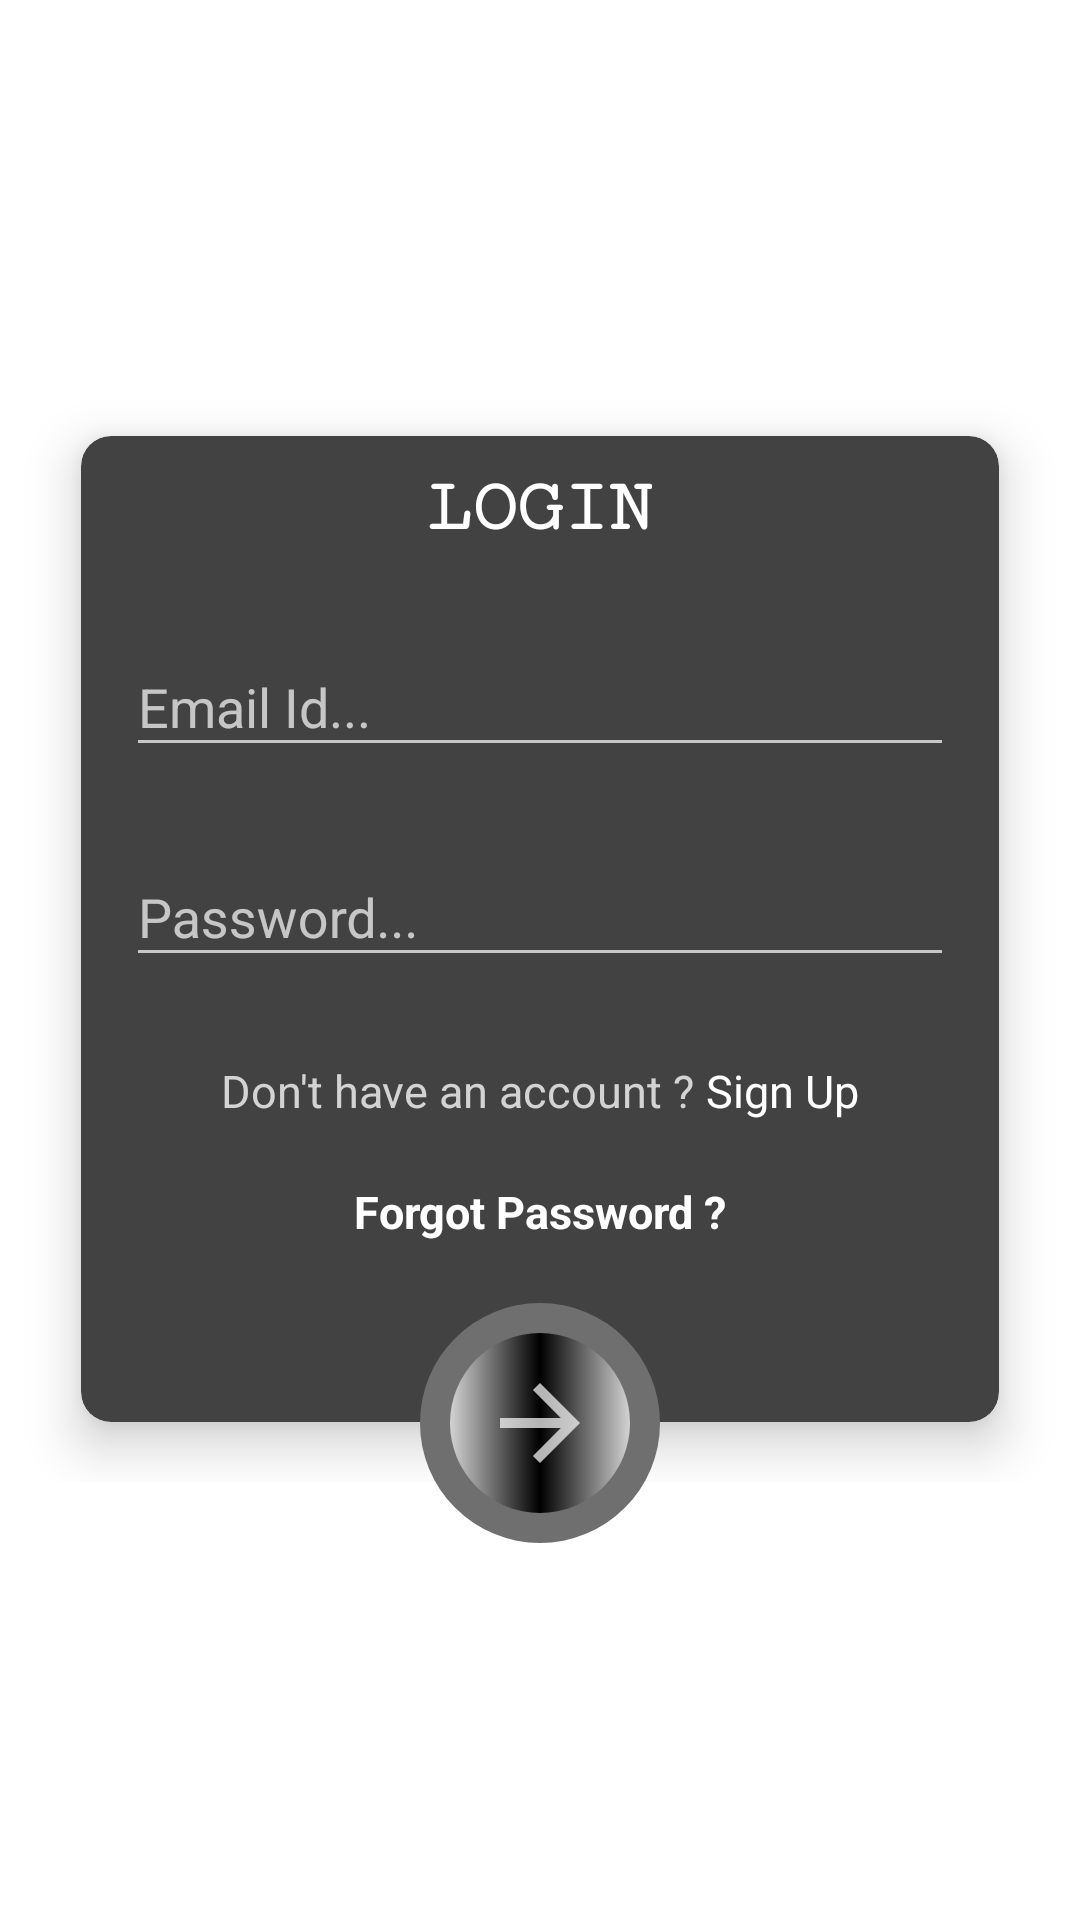

Icon bounding boxes for this 1080 x 1920 phone screenshot, format Rect(x1, y1, x2, y2):
arrow forward: Rect(450, 1333, 630, 1513)
